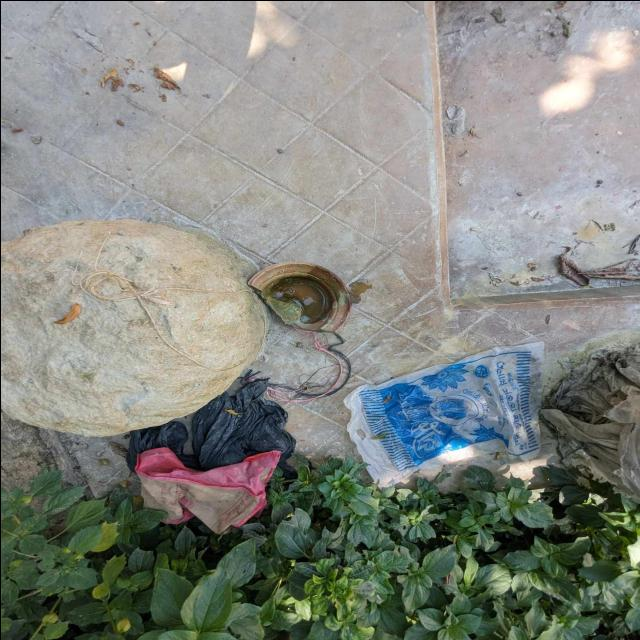Breeding Place: (326, 338, 578, 504), (103, 365, 310, 541), (250, 247, 360, 348)
